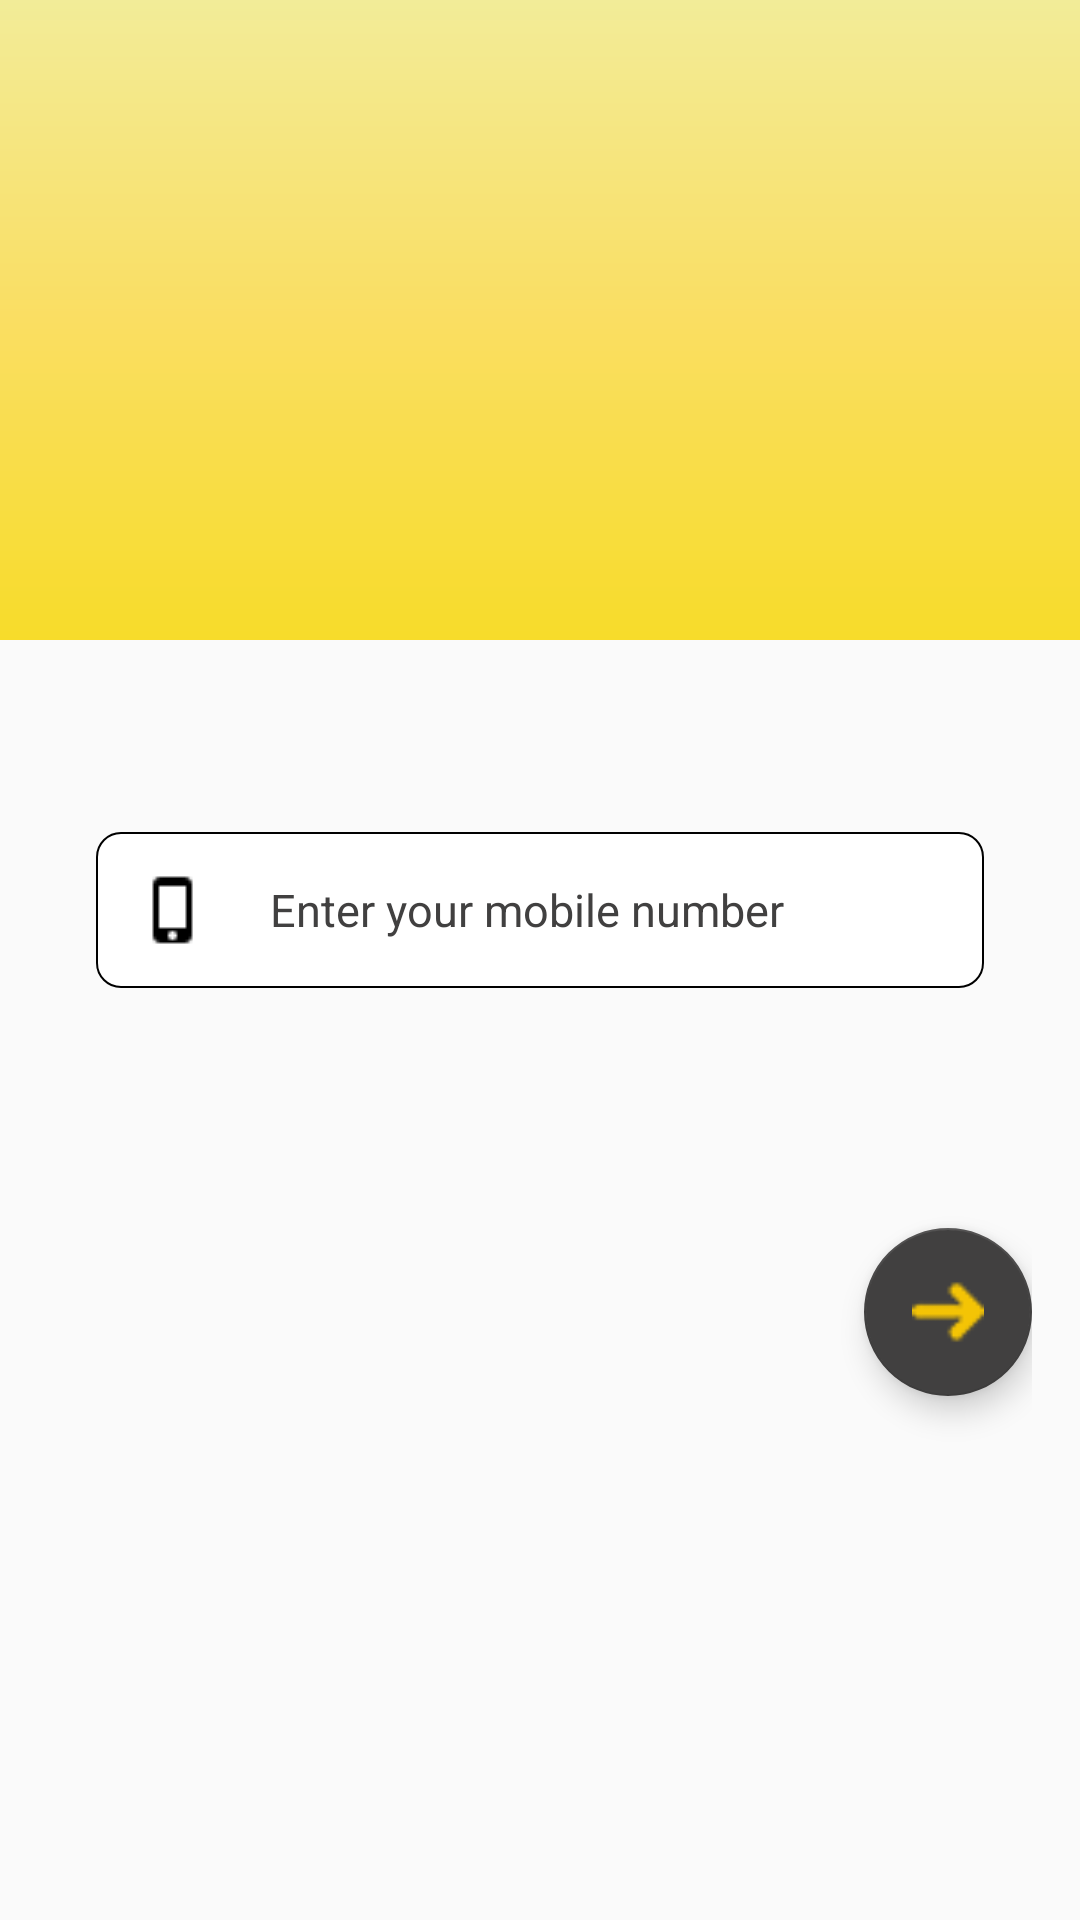

Named icons in this screenshot (1080x1920) and their centers, point (x, y):
right arrow: point (948, 1312)
